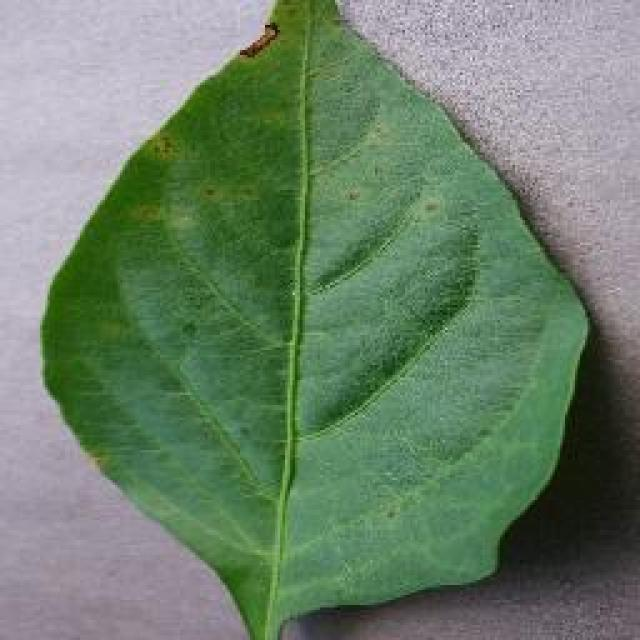Chilli_Healthy: (38, 0, 592, 638)
